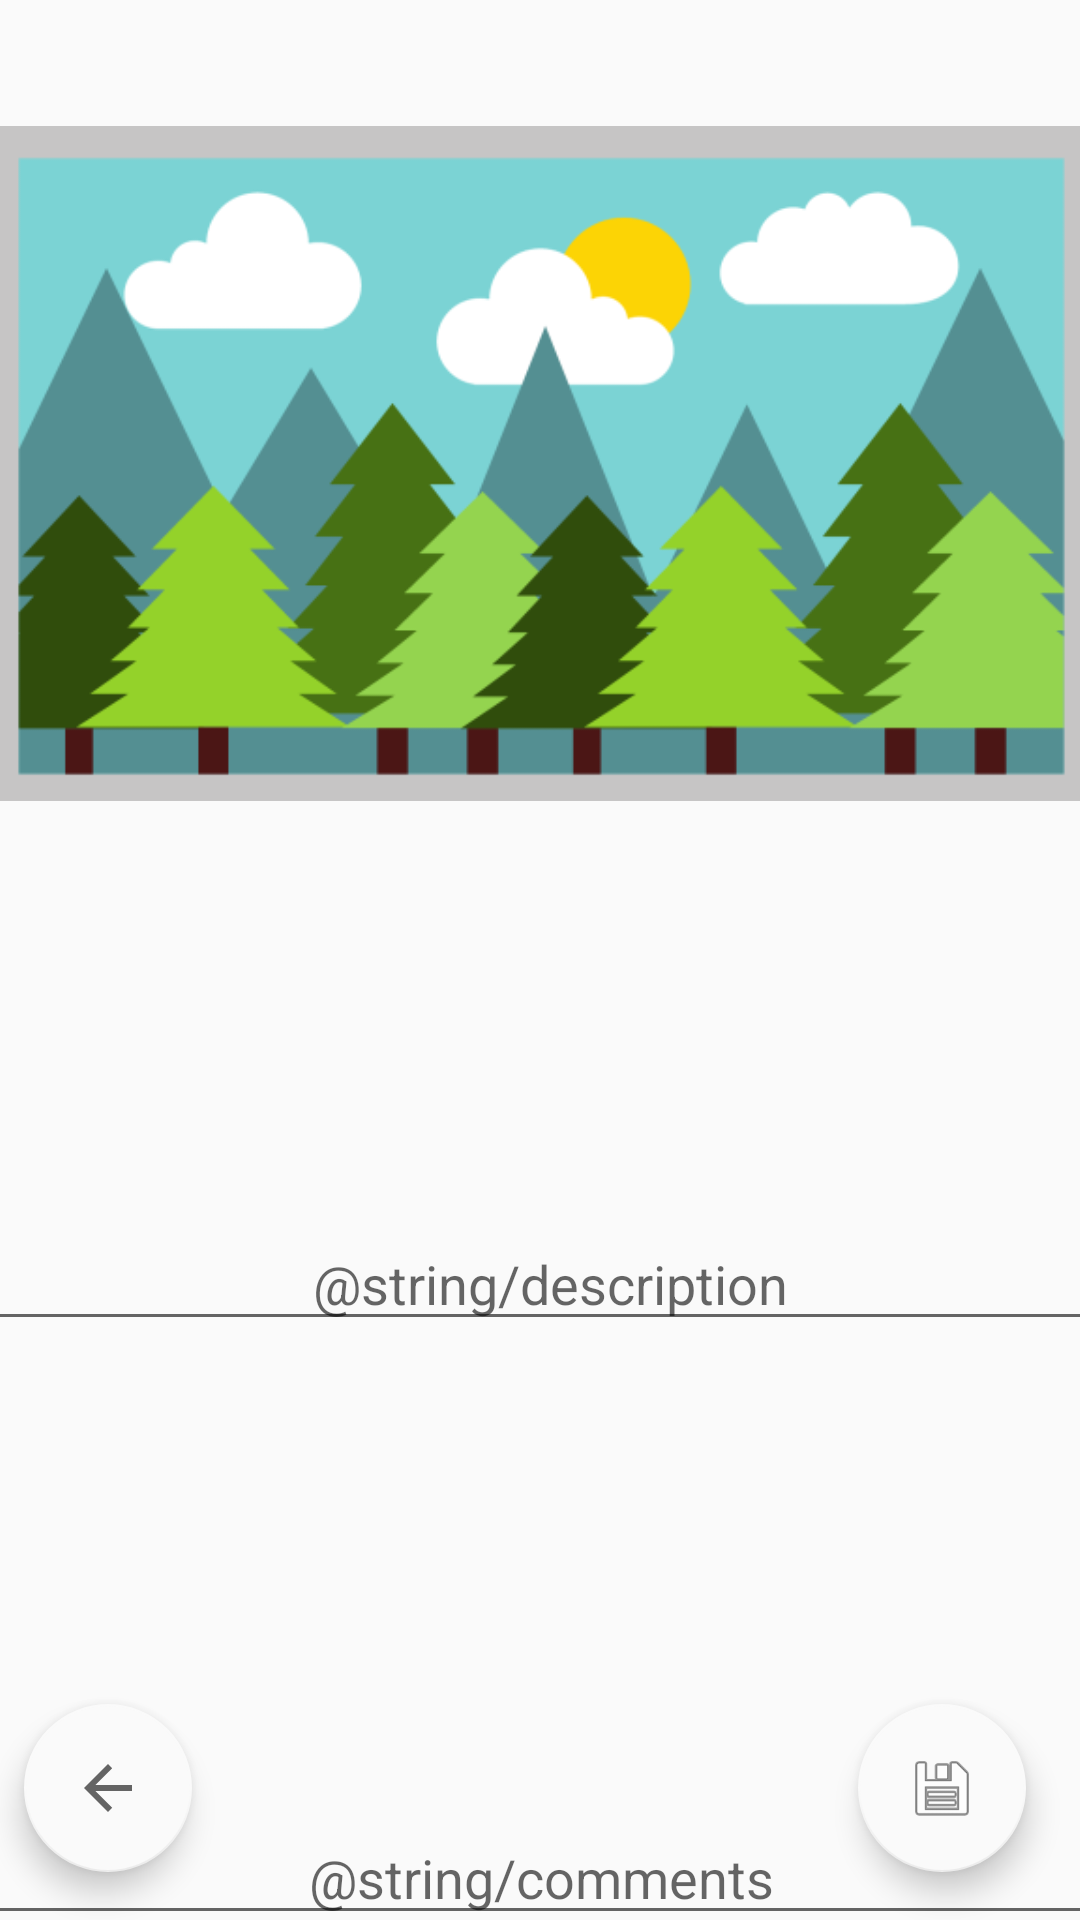

Icons on this 1080*1920 Android screen, each with its box as (x1, y1, x2, y2):
save: (915, 1761, 969, 1816)
